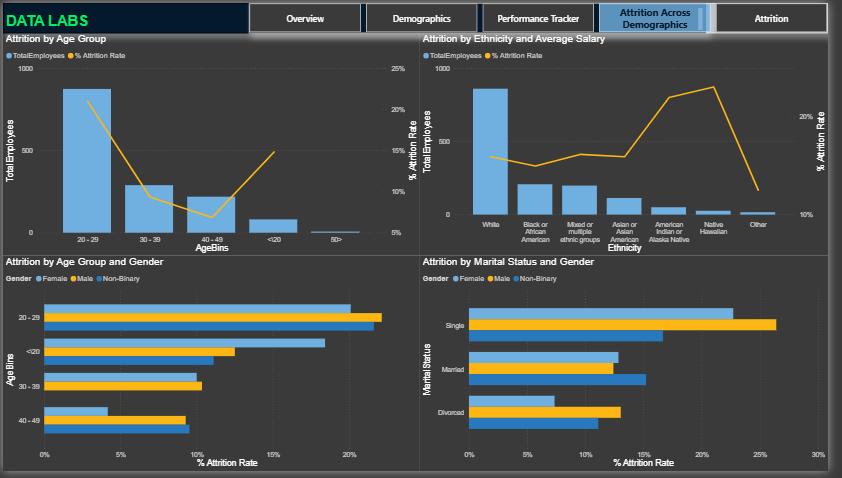

The page's visual inventory and layout, read from the dashboard file:
{"tool":"powerbi","page":{"name":"Attrition Across Demographics","canvas":[1500,850],"ordinal":3},"visuals":[{"type":"lineClusteredColumnComboChart","title":"Attrition by Age Group","fields":{"Category":["DimEmployee.AgeBins"],"Y":["_Measures.TotalEmployees"],"Y2":["_Measures.% Attrition Rate"]},"box":[0,54.5,758.2,405.5],"z":0},{"type":"clusteredBarChart","title":"Attrition by Age Group and Gender","fields":{"Category":["DimEmployee.AgeBins"],"Series":["DimEmployee.Gender"],"Y":["_Measures.% Attrition Rate"]},"box":[0,460,758.2,390.9],"z":1000},{"type":"clusteredBarChart","title":"Attrition by Marital Status and Gender","fields":{"Category":["DimEmployee.MaritalStatus"],"Series":["DimEmployee.Gender"],"Y":["_Measures.% Attrition Rate"]},"box":[758.2,460,741.8,390.9],"z":2000},{"type":"lineClusteredColumnComboChart","title":"Attrition by Ethnicity and Average Salary","fields":{"Category":["DimEmployee.Ethnicity"],"Y":["_Measures.TotalEmployees"],"Y2":["_Measures.% Attrition Rate"]},"box":[758.2,54.5,741.8,405.5],"z":3000},{"type":"textbox","box":[0,0,1278.1,54.9],"z":4000},{"type":"pageNavigator","box":[447.3,0,1052.7,54.5],"z":5000}]}

Visuals, with their boxes in screenshot pixels (x1, y1, x2, y2), scaled from the page's 1500x850 canvas onto the 842x478 screenshot:
"Attrition by Age Group" lineClusteredColumnComboChart: box(0, 31, 426, 259)
"Attrition by Age Group and Gender" clusteredBarChart: box(0, 259, 426, 477)
"Attrition by Marital Status and Gender" clusteredBarChart: box(426, 259, 841, 477)
"Attrition by Ethnicity and Average Salary" lineClusteredColumnComboChart: box(426, 31, 841, 259)
textbox: box(0, 0, 717, 31)
pageNavigator: box(251, 0, 841, 31)
